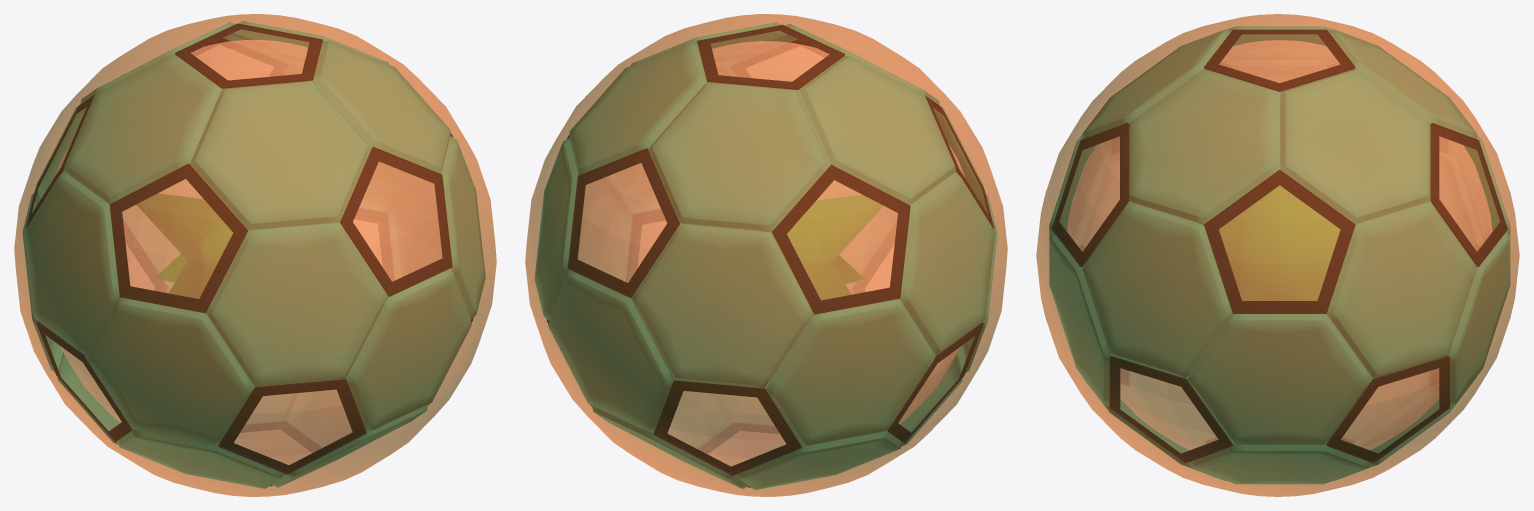
File: Ball 1.fbx
The picture shows the model from 3 angles, left to right: view 1: azimuth 30°, elevation 25°; view 2: azimuth 150°, elevation 25°; view 3: azimuth 270°, elevation 25°; orthographic projection.
Visible parts, largest first — view 1: Shell, Ball, Inner shell, Core; view 2: Shell, Ball, Inner shell, Core; view 3: Shell, Ball, Inner shell, Core.
Boxes of the visible parts, x1,y1,x2,y2 form: Shell: [14, 14, 496, 496]; Ball: [22, 21, 485, 488]; Inner shell: [55, 40, 442, 464]; Core: [137, 193, 232, 298]; Shell: [525, 14, 1007, 496]; Ball: [534, 22, 997, 489]; Inner shell: [578, 41, 964, 466]; Core: [787, 195, 883, 299]; Shell: [1036, 14, 1519, 496]; Ball: [1049, 26, 1510, 484]; Inner shell: [1067, 40, 1492, 449]; Core: [1219, 185, 1340, 300].
Size of the model in its own units: 72.75 by 72.75 by 72.75.
4 materials, 1 textured.
